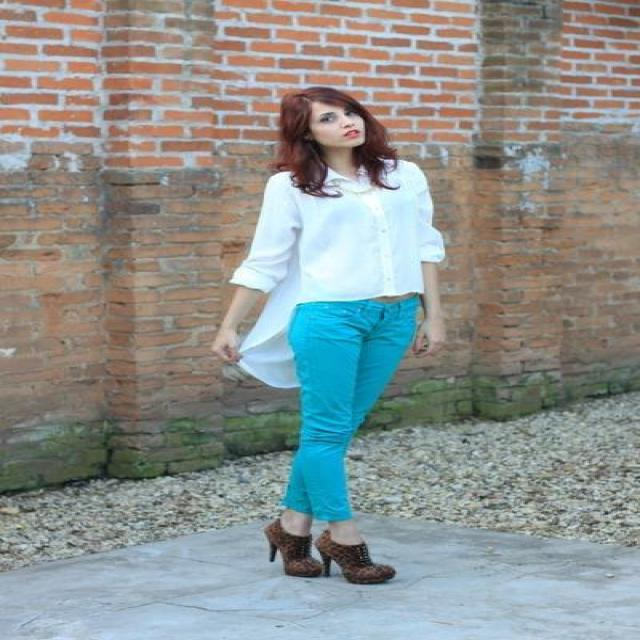pants: (280, 298, 418, 520)
shirt: (231, 154, 444, 387)
shoe: (266, 525, 394, 583)
